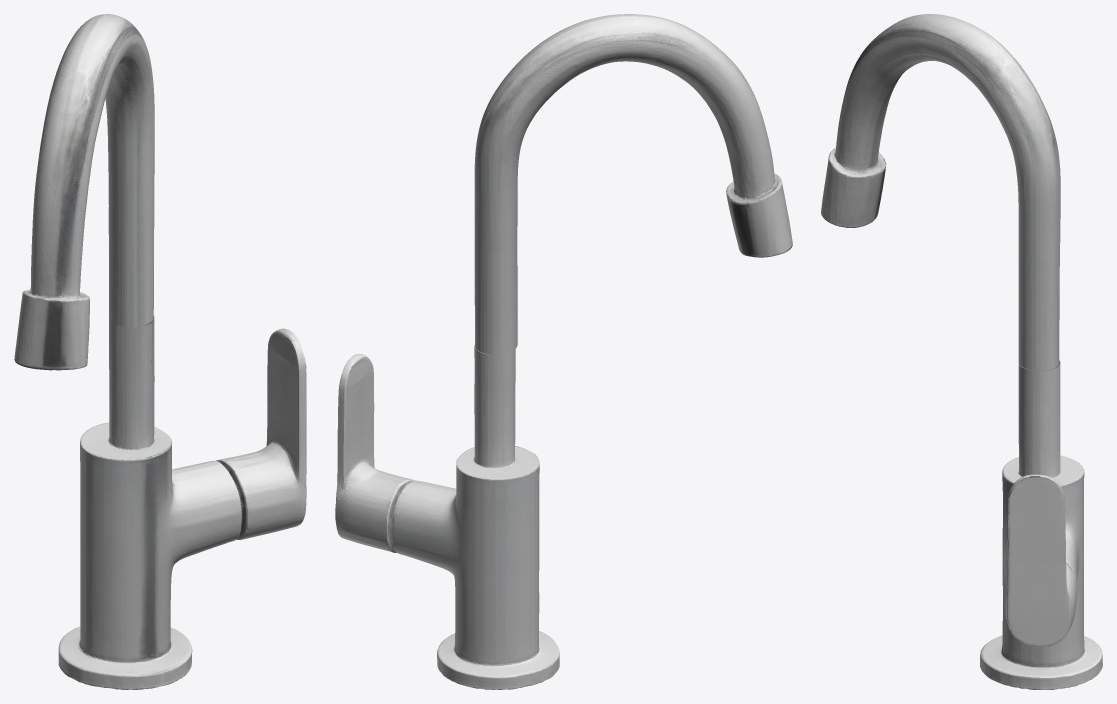
3 views of the same model, side by side, from view 1: azimuth 30°, elevation 25°; view 2: azimuth 150°, elevation 25°; view 3: azimuth 270°, elevation 25° (orthographic). The views are drawn at different scales.
Parts seen in each view (by area): view 1: geometry_0, visual__2__spout, visual__1__handle; view 2: visual__2__spout, geometry_0, visual__1__handle; view 3: visual__2__spout, geometry_0, visual__1__handle.
Part boxes in pixels (left/top/right/bottom): geometry_0: left=58, top=315, right=244, bottom=689; visual__2__spout: left=14, top=14, right=154, bottom=370; visual__1__handle: left=216, top=328, right=306, bottom=539; visual__2__spout: left=474, top=14, right=792, bottom=354; geometry_0: left=389, top=345, right=559, bottom=689; visual__1__handle: left=335, top=354, right=415, bottom=552; visual__2__spout: left=821, top=14, right=1060, bottom=370; geometry_0: left=980, top=360, right=1102, bottom=689; visual__1__handle: left=1005, top=474, right=1077, bottom=646.
Bounding box in the file's own units: 0.1993 × 0.35 × 0.1465.
Materials: 1 (1 with a texture image).
